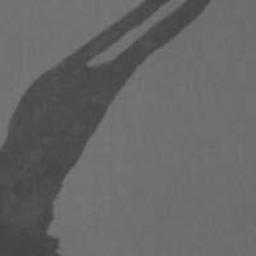Oil spot: (0, 0, 214, 256)
